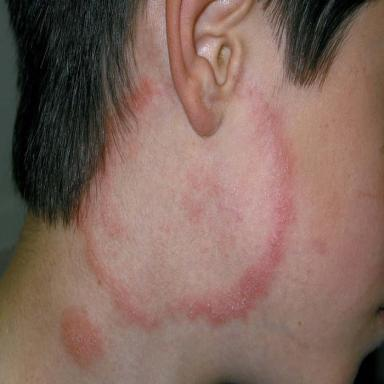Tinea-Corporis: (76, 63, 293, 326), (61, 310, 103, 367)
